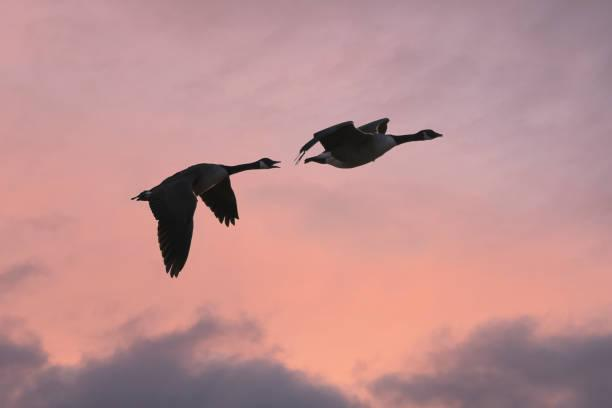Canadian-Goose: (134, 156, 280, 278), (296, 118, 444, 172)
